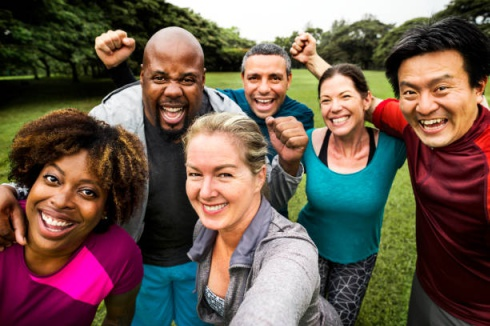person: (383, 20, 488, 326), (6, 106, 139, 262), (189, 115, 283, 312), (312, 64, 391, 249), (139, 22, 209, 136), (232, 34, 316, 124)
